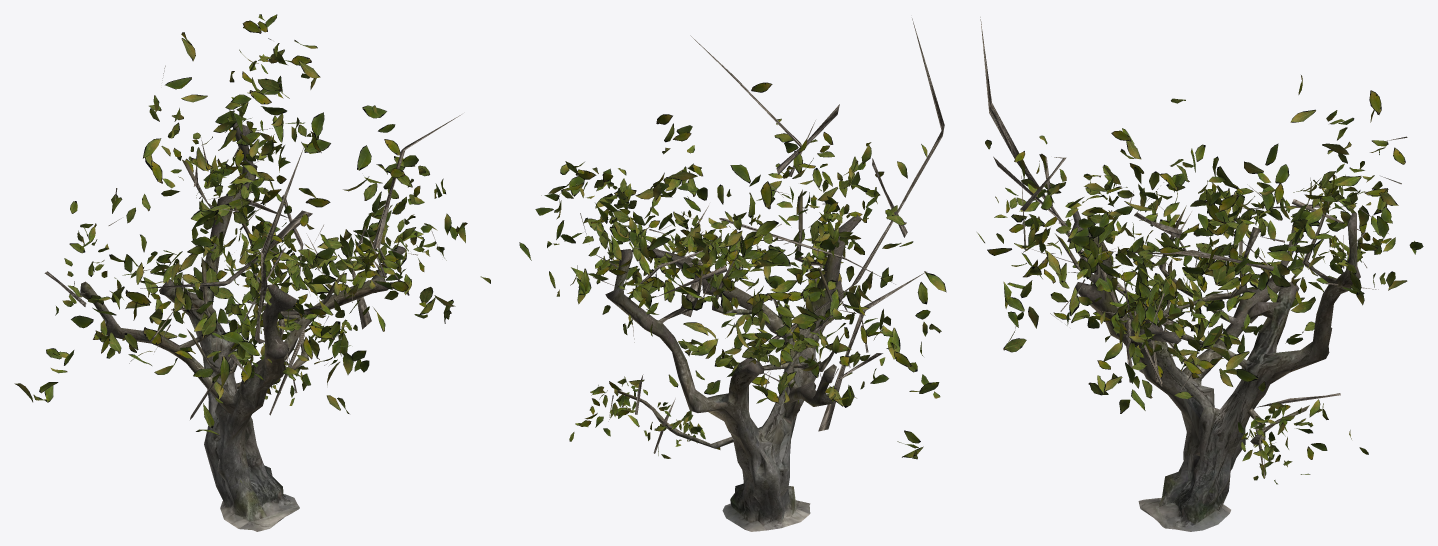
Rendered from island_tree_01_lod1.glb.
3 views of the same model, side by side, from view 1: azimuth 30°, elevation 25°; view 2: azimuth 150°, elevation 25°; view 3: azimuth 270°, elevation 25° (orthographic). The views are drawn at different scales.
Visible parts, largest first — view 1: island_tree_01_LOD0.002, island_tree_01_LOD0.001, island_tree_01_LOD0; view 2: island_tree_01_LOD0.002, island_tree_01_LOD0.001, island_tree_01_LOD0; view 3: island_tree_01_LOD0.002, island_tree_01_LOD0.001, island_tree_01_LOD0.
Boxes of the visible parts, x1=… form: island_tree_01_LOD0.002: x1=14, y1=14, x2=490, y2=435; island_tree_01_LOD0.001: x1=80, y1=122, x2=406, y2=531; island_tree_01_LOD0: x1=44, y1=38, x2=461, y2=419; island_tree_01_LOD0.002: x1=519, y1=82, x2=946, y2=459; island_tree_01_LOD0.001: x1=605, y1=189, x2=861, y2=531; island_tree_01_LOD0: x1=554, y1=18, x2=944, y2=453; island_tree_01_LOD0.002: x1=977, y1=75, x2=1423, y2=484; island_tree_01_LOD0.001: x1=1055, y1=194, x2=1360, y2=531; island_tree_01_LOD0: x1=980, y1=17, x2=1407, y2=478.
Size of the model in its own units: 4.74 by 5.12 by 4.38.
Materials: 3 (3 with a texture image).
